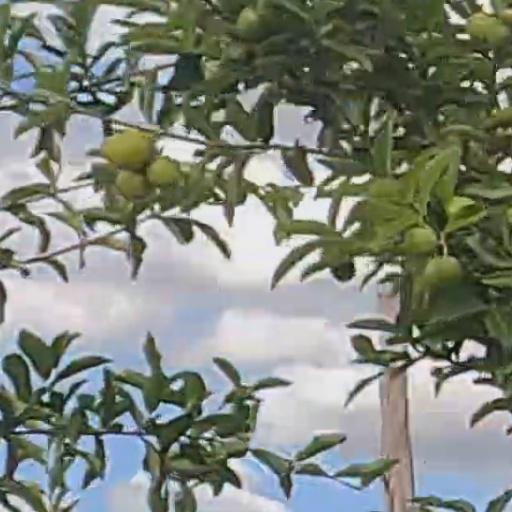acerola: (108, 133, 150, 168), (118, 172, 153, 201), (425, 258, 458, 288), (470, 17, 508, 43), (152, 160, 184, 188), (407, 228, 437, 255)
